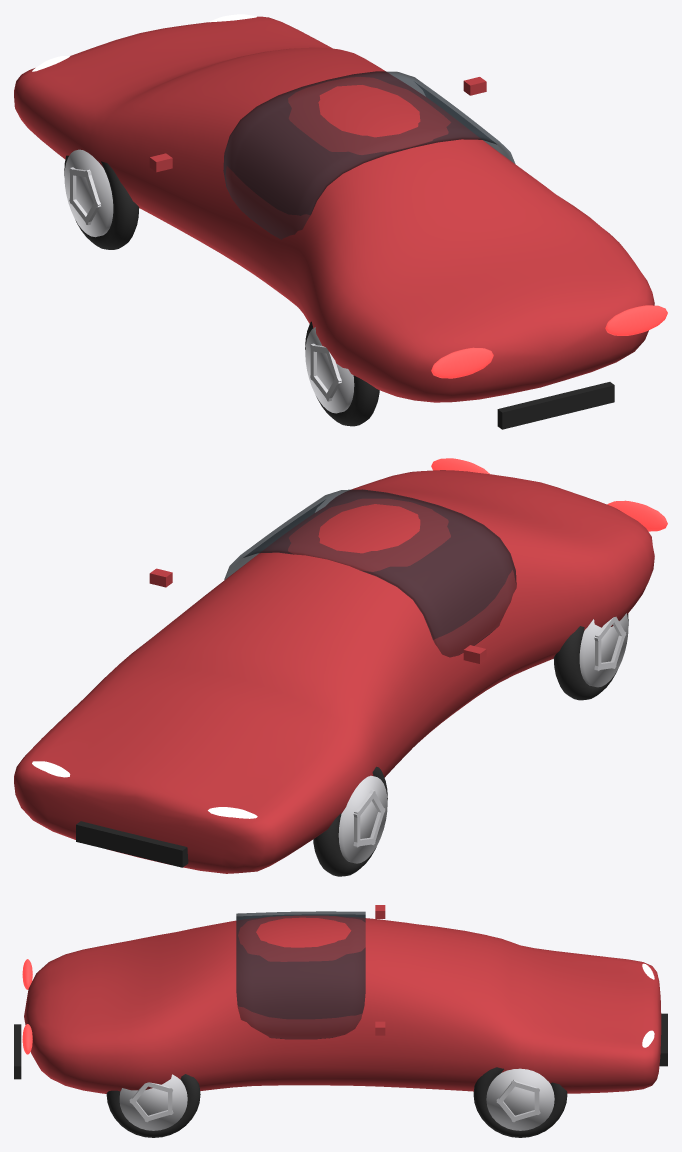
Rendered from toyota_supra_rz_1998.glb.
3 views of the same model, one above another, from view 1: azimuth 30°, elevation 25°; view 2: azimuth 150°, elevation 25°; view 3: azimuth 270°, elevation 25° (orthographic). The views are drawn at different scales.
Visible parts, largest first — view 1: Body, Glass, Diffuser, Rim_FR, Tyre_FR, Rim_RR, Tyre_RR, Taillight_R, Taillight_L; view 2: Body, Glass, FrontIntake, Rim_FR, Rim_RR, Tyre_RR, Tyre_FR, Taillight_R; view 3: Body, Glass, Rim_FL, Rim_RL, Tyre_FL, Tyre_RL, Diffuser, FrontIntake.
Boxes of the visible parts, x1,y1,x2,y2 form: Body: (14, 16, 654, 402); Glass: (223, 71, 515, 239); Diffuser: (497, 382, 614, 429); Rim_FR: (64, 149, 113, 237); Tyre_FR: (64, 155, 139, 249); Rim_RR: (305, 327, 354, 413); Tyre_RR: (305, 321, 379, 426); Taillight_R: (431, 347, 493, 378); Taillight_L: (605, 305, 667, 335); Body: (14, 470, 654, 873); Glass: (224, 489, 516, 657); FrontIntake: (76, 821, 188, 867); Rim_FR: (338, 775, 387, 863); Rim_RR: (579, 613, 628, 687); Tyre_RR: (553, 614, 628, 700); Tyre_FR: (313, 766, 387, 876); Taillight_R: (607, 500, 667, 531); Body: (24, 915, 661, 1093); Glass: (236, 911, 365, 1039); Rim_FL: (486, 1068, 554, 1130); Rim_RL: (119, 1074, 187, 1130); Tyre_FL: (473, 1067, 567, 1137); Tyre_RL: (106, 1074, 200, 1137); Diffuser: (14, 1024, 21, 1079); FrontIntake: (659, 1013, 667, 1066).
Bounding box in the file's own units: 2.02 × 1.24 × 4.55.
